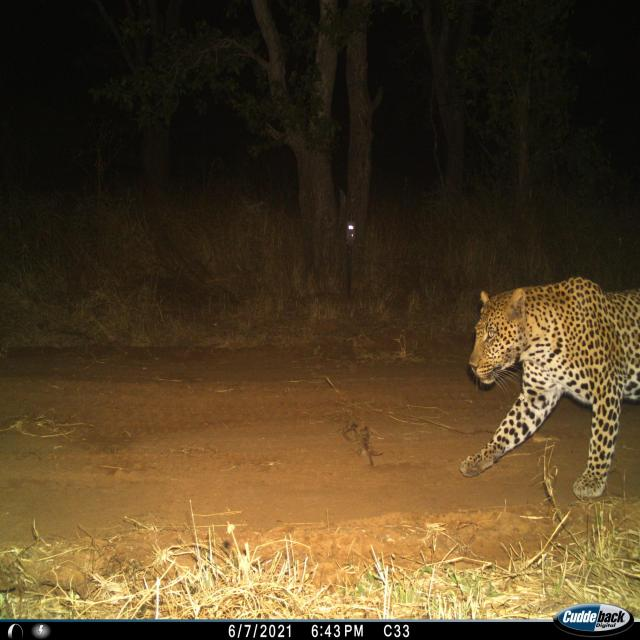Leopard: (451, 264, 640, 522)
